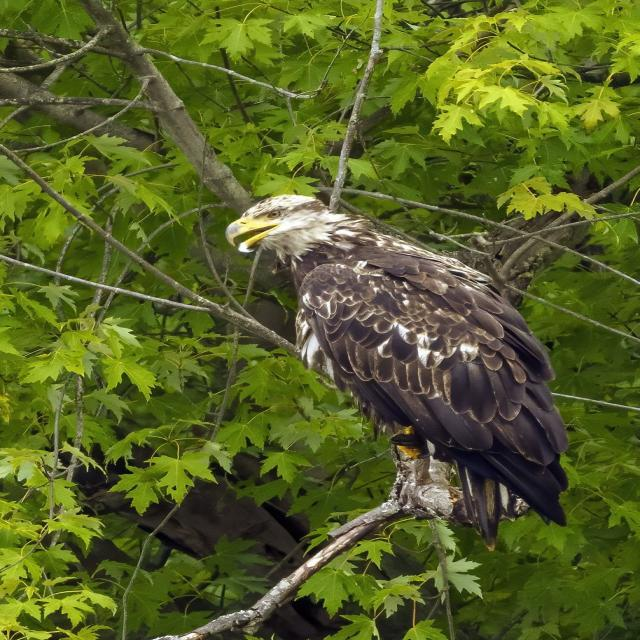Eagle: (218, 190, 588, 536)
